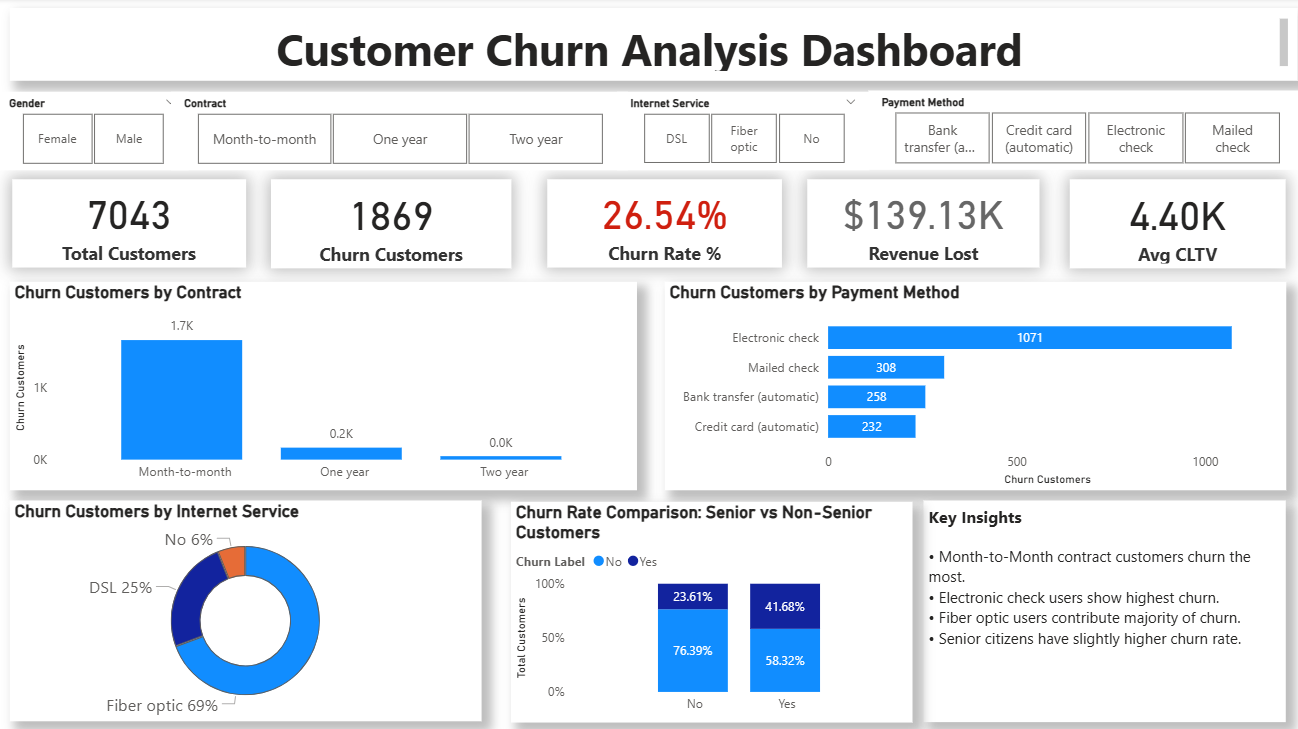

This screenshot's page, from the dashboard's own definition file:
{"tool":"powerbi","page":{"name":"Customer Churn Analysis Dashboard","canvas":[1280,720],"ordinal":0},"visuals":[{"type":"card","fields":{"Values":["Telco_Churn.Total Customers"]},"box":[16.1,177.5,228.6,86.1],"z":0},{"type":"card","fields":{"Values":["Telco_Churn.Revenue Lost"]},"box":[793.4,177.5,227.3,86.1],"z":1000},{"type":"card","fields":{"Values":["Telco_Churn.Avg CLTV"]},"box":[1050.3,177.5,211.1,87.4],"z":2000},{"type":"card","fields":{"Values":["Telco_Churn.Churn Rate %"]},"box":[539.3,177.5,230,86.1],"z":3000},{"type":"card","fields":{"Values":["Telco_Churn.Churn Customers"]},"box":[269,177.5,235.3,87.4],"z":4000},{"type":"clusteredColumnChart","fields":{"Category":["Telco_Churn.Contract"],"Y":["Telco_Churn.Churn Customers"]},"box":[13.5,277.6,613.9,204.2],"z":5000},{"type":"clusteredBarChart","fields":{"Category":["Telco_Churn.Payment Method"],"Y":["Telco_Churn.Churn Customers"]},"box":[654.2,277.6,607.7,204.2],"z":6000},{"type":"donutChart","fields":{"Category":["Telco_Churn.Internet Service"],"Y":["Telco_Churn.Churn Customers"]},"box":[13.8,491.2,461.2,216.2],"z":7000},{"type":"textbox","box":[13.4,9.4,1260.1,71.3],"z":8000},{"type":"textbox","box":[907.3,491.6,354.6,216.4],"z":9000},{"type":"slicer","fields":{"Values":["Telco_Churn.Gender"]},"box":[0,91.7,188.3,77],"z":10000},{"type":"slicer","fields":{"Values":["Telco_Churn.Payment Method"]},"box":[854,90.1,426.3,78],"z":11000},{"type":"slicer","fields":{"Values":["Telco_Churn.Internet Service"]},"box":[607.9,91.4,246.1,76.7],"z":12000},{"type":"slicer","fields":{"Values":["Telco_Churn.Contract"]},"box":[171.2,91.7,446.3,77],"z":13000},{"type":"hundredPercentStackedColumnChart","title":"Churn Rate Comparison: Senior vs Non-Senior Customers","fields":{"Category":["Telco_Churn.Senior Citizen"],"Series":["Telco_Churn.Churn Label"],"Y":["Telco_Churn.Total Customers"]},"box":[503.8,492.5,392.5,216.2],"z":14000}]}

Visuals, with their boxes in screenshot pixels (x1, y1, x2, y2), scaled from the page's 1280x720 canvas onto the 1298x729 screenshot:
card - Telco_Churn.Total Customers: [16,180,248,267]
card - Telco_Churn.Revenue Lost: [805,180,1035,267]
card - Telco_Churn.Avg CLTV: [1065,180,1279,268]
card - Telco_Churn.Churn Rate %: [547,180,780,267]
card - Telco_Churn.Churn Customers: [273,180,511,268]
clusteredColumnChart - Telco_Churn.Contract x Telco_Churn.Churn Customers: [14,281,636,488]
clusteredBarChart - Telco_Churn.Payment Method x Telco_Churn.Churn Customers: [663,281,1280,488]
donutChart - Telco_Churn.Internet Service x Telco_Churn.Churn Customers: [14,497,482,716]
textbox: [14,10,1291,82]
textbox: [920,498,1280,717]
slicer - Telco_Churn.Gender: [0,93,191,171]
slicer - Telco_Churn.Payment Method: [866,91,1297,170]
slicer - Telco_Churn.Internet Service: [616,93,866,170]
slicer - Telco_Churn.Contract: [174,93,626,171]
"Churn Rate Comparison: Senior vs Non-Senior Customers" hundredPercentStackedColumnChart: [511,499,909,718]
